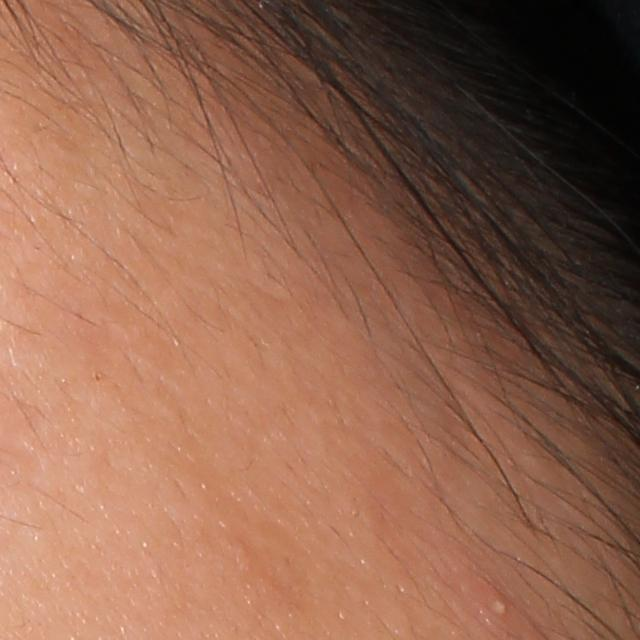pustule: (482, 592, 512, 622)
